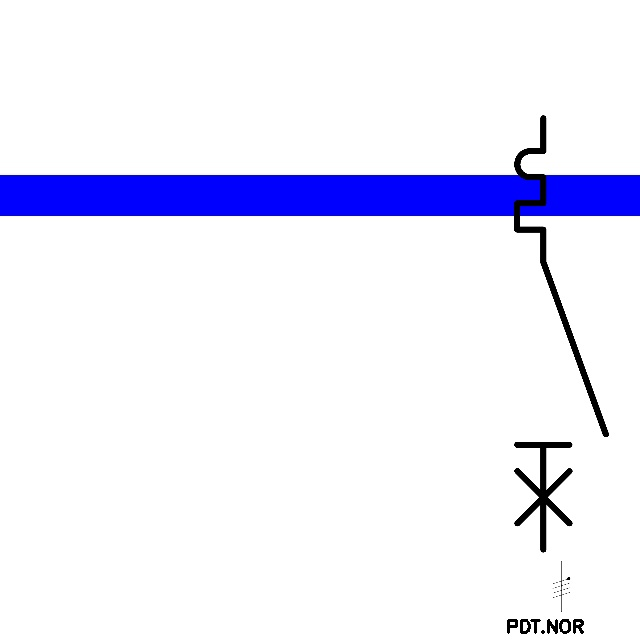interruptor_termomagnetico: (506, 107, 617, 561)
